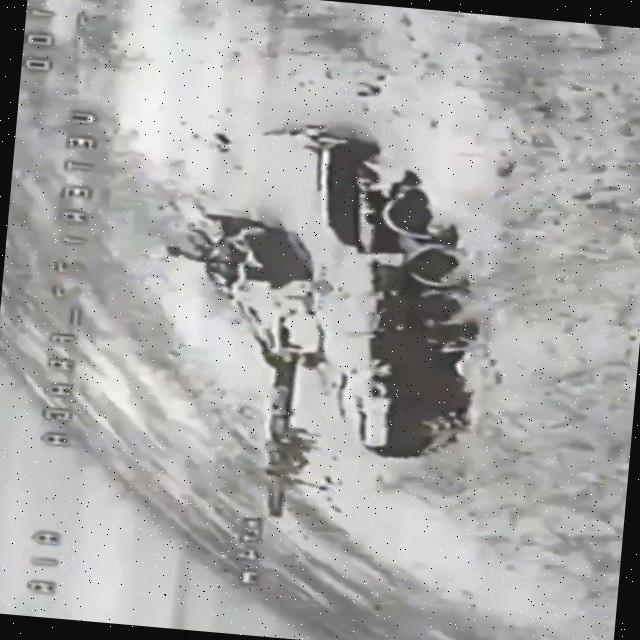MBT: (158, 108, 488, 535)
